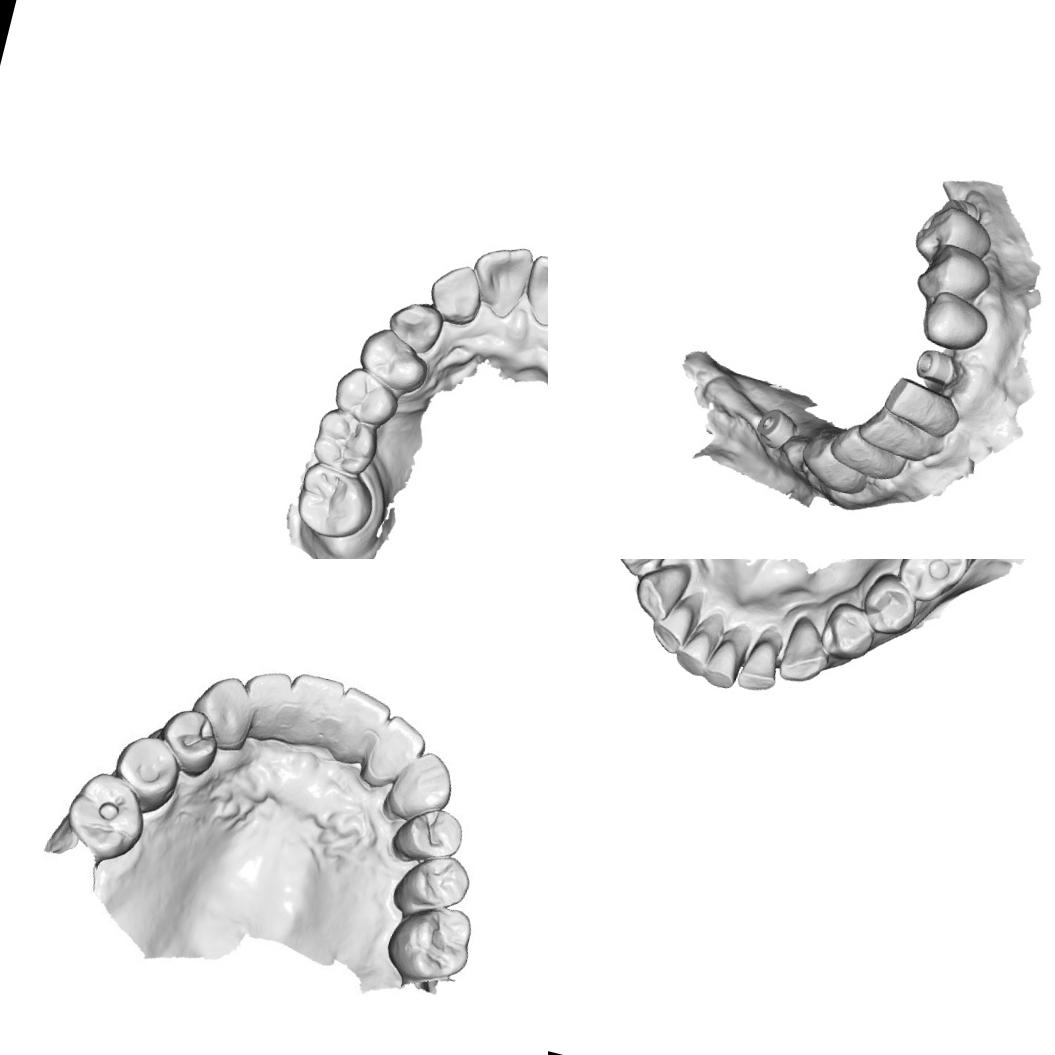canine: (184, 666, 260, 756), (384, 741, 461, 823), (774, 614, 836, 691), (380, 293, 449, 360), (631, 560, 688, 620)
implant: (903, 340, 970, 394), (746, 402, 802, 458), (942, 189, 990, 224)
incisor: (848, 398, 954, 466), (875, 367, 970, 440), (460, 235, 536, 324), (817, 418, 917, 484), (324, 682, 398, 769), (275, 668, 350, 752), (782, 434, 876, 497), (361, 708, 429, 787), (422, 255, 490, 330), (232, 665, 295, 742), (668, 607, 728, 681), (696, 623, 750, 693), (645, 592, 701, 658), (733, 633, 788, 697), (514, 249, 548, 335)
molar: (378, 891, 480, 992), (60, 765, 154, 866), (288, 456, 382, 547), (906, 196, 1000, 271), (304, 403, 384, 480), (890, 559, 975, 612)
premolar: (106, 728, 189, 818), (352, 322, 435, 397), (912, 239, 1001, 307), (394, 844, 475, 918), (908, 286, 994, 354), (326, 360, 405, 432), (388, 799, 466, 871), (152, 704, 224, 780), (854, 566, 924, 642), (814, 596, 881, 667), (608, 559, 678, 583)
